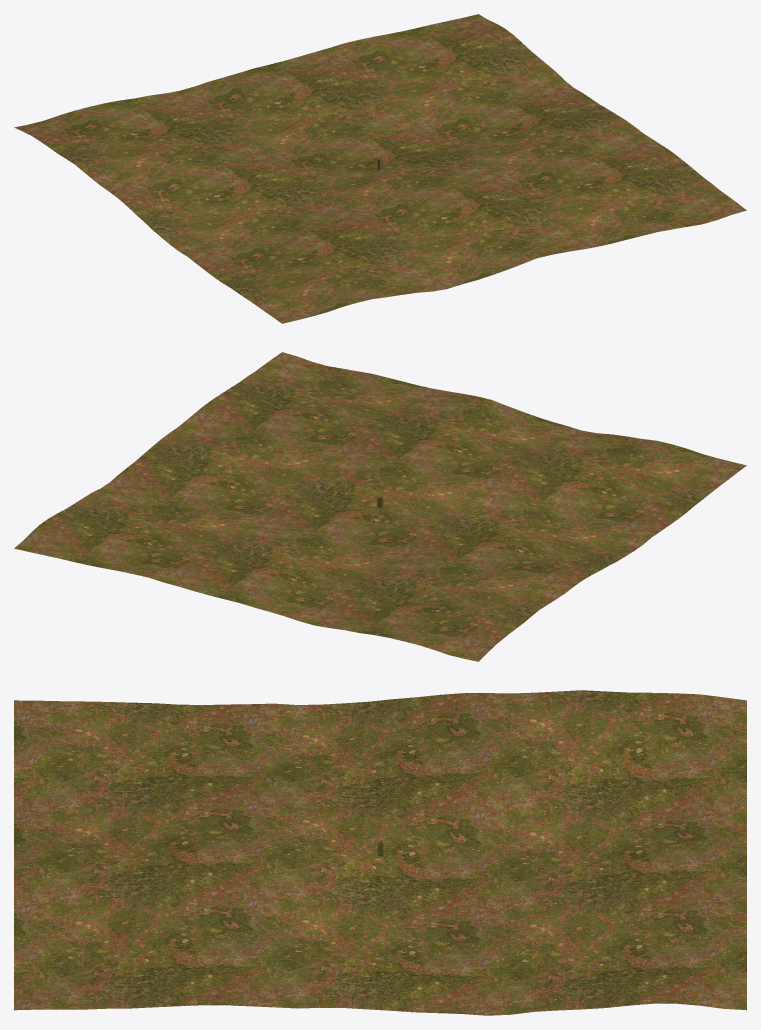
File: terrain.obj
3 views of the same model, one above another, from view 1: azimuth 30°, elevation 25°; view 2: azimuth 150°, elevation 25°; view 3: azimuth 270°, elevation 25° (orthographic). The views are drawn at different scales.
Parts seen in each view (by area): view 1: Plane; view 2: Plane; view 3: Plane.
Boxes of the visible parts, x1,y1,x2,y2 form: Plane: (14,14,746,323); Plane: (14,352,746,661); Plane: (14,690,746,1015).
Bounding box in the file's own units: 101 × 3.45 × 101.
1 material, 1 textured.
